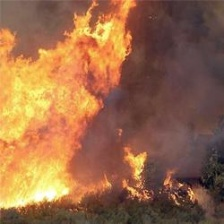fire: (1, 6, 151, 212)
smoke: (163, 37, 224, 160)
